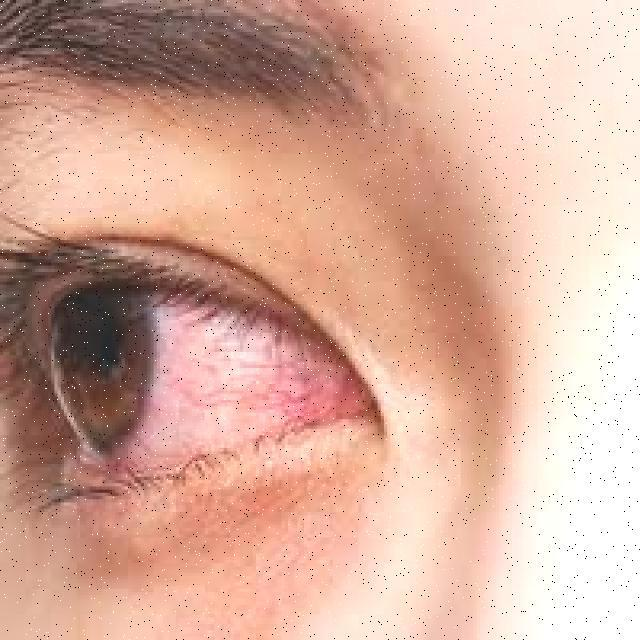Conjunctivitis: (85, 318, 377, 462)
